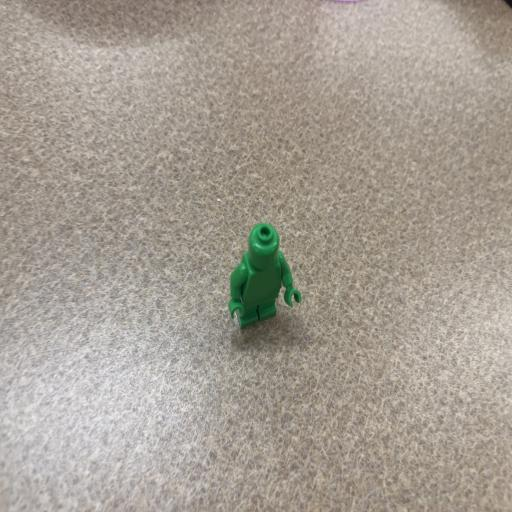Lego-Minifig: (228, 223, 301, 328)
